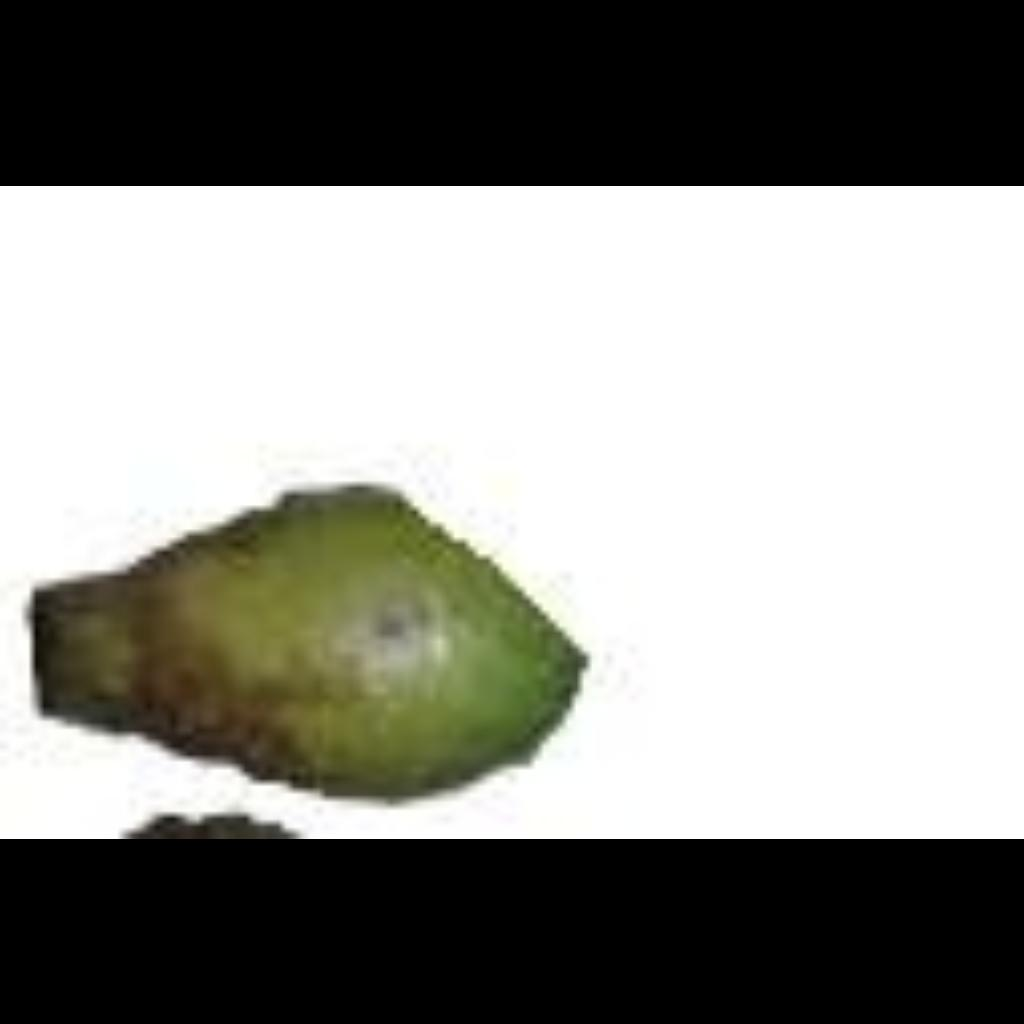Anthracnose: (4, 528, 568, 770)
